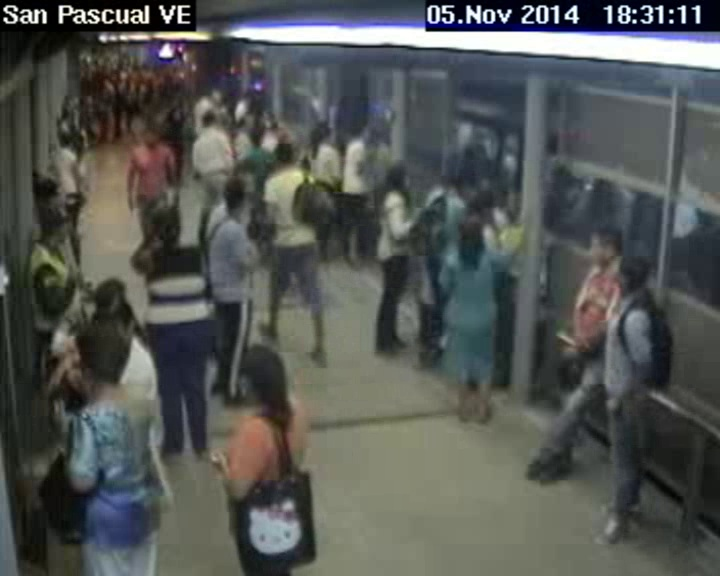person: (224, 343, 295, 421), (76, 310, 133, 393), (83, 266, 131, 314), (144, 201, 190, 246), (455, 213, 483, 272), (607, 251, 653, 286), (589, 224, 624, 265), (382, 153, 413, 193), (223, 173, 247, 215), (40, 206, 65, 245), (437, 159, 464, 193), (346, 119, 375, 148), (135, 122, 161, 147), (272, 143, 294, 170), (311, 117, 332, 144), (41, 177, 62, 199), (246, 121, 263, 146), (202, 111, 219, 133), (60, 129, 77, 150)
